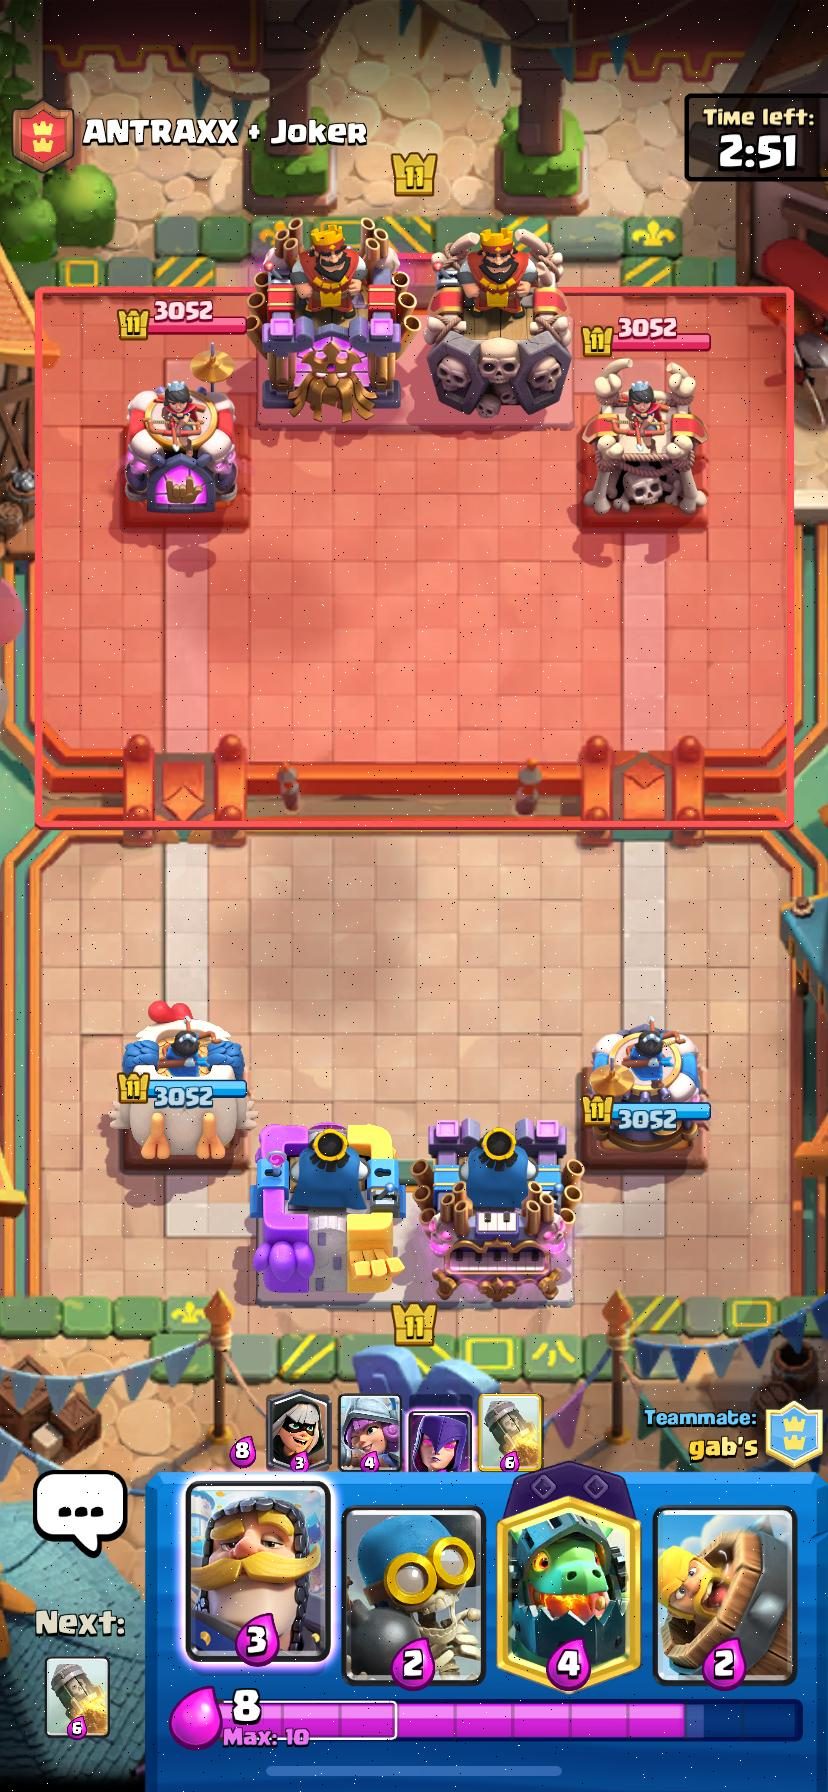EKingTower: (247, 219, 417, 421), (424, 229, 570, 418)
EnemyPrincessTower: (581, 365, 707, 514), (125, 381, 237, 514)
OwnKingTower: (415, 1121, 578, 1304), (253, 1123, 403, 1302)
OwnPrincessTower: (109, 1001, 254, 1160), (581, 1018, 710, 1167)
